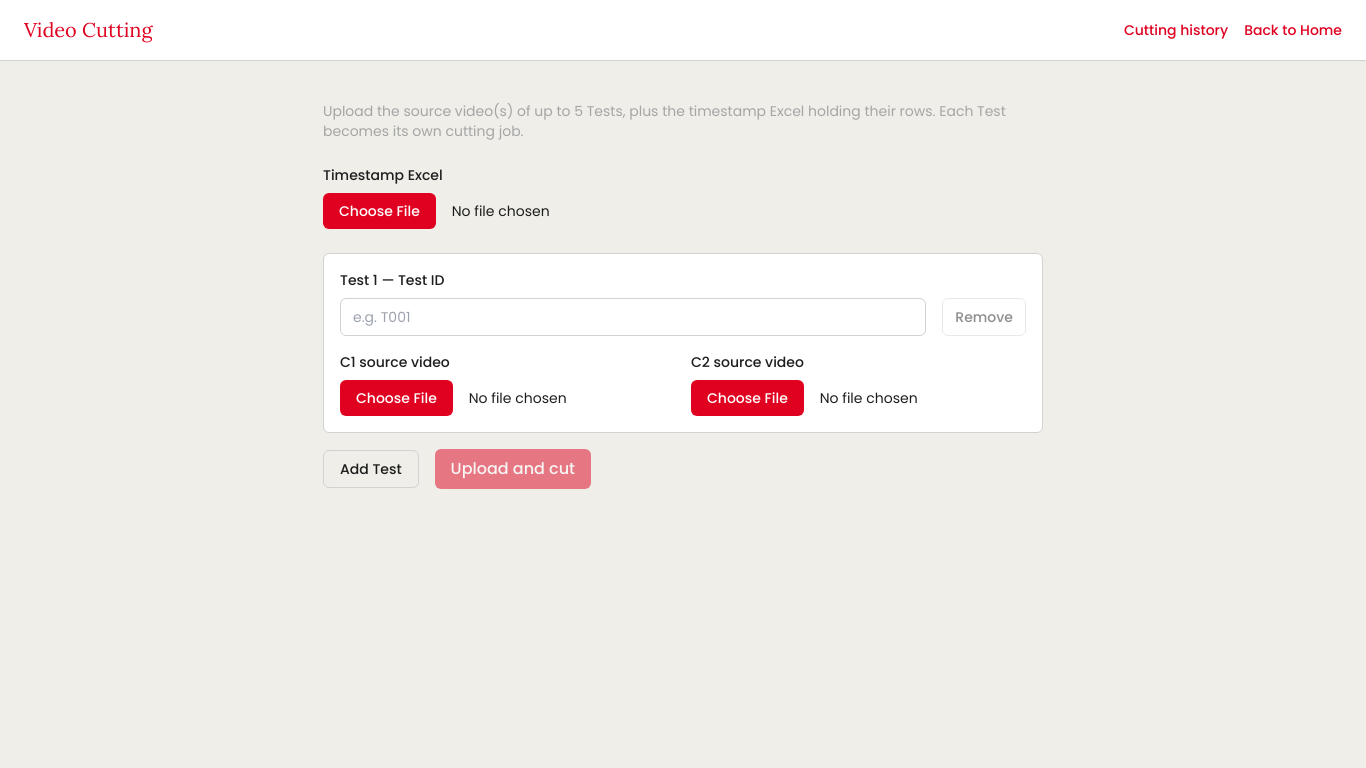
CuttingUploadView › removes a Test from the batch
The width and height of the screenshot is (1366, 768).
Click the button with test id "add-test" at [371, 469], box [323, 450, 419, 488]
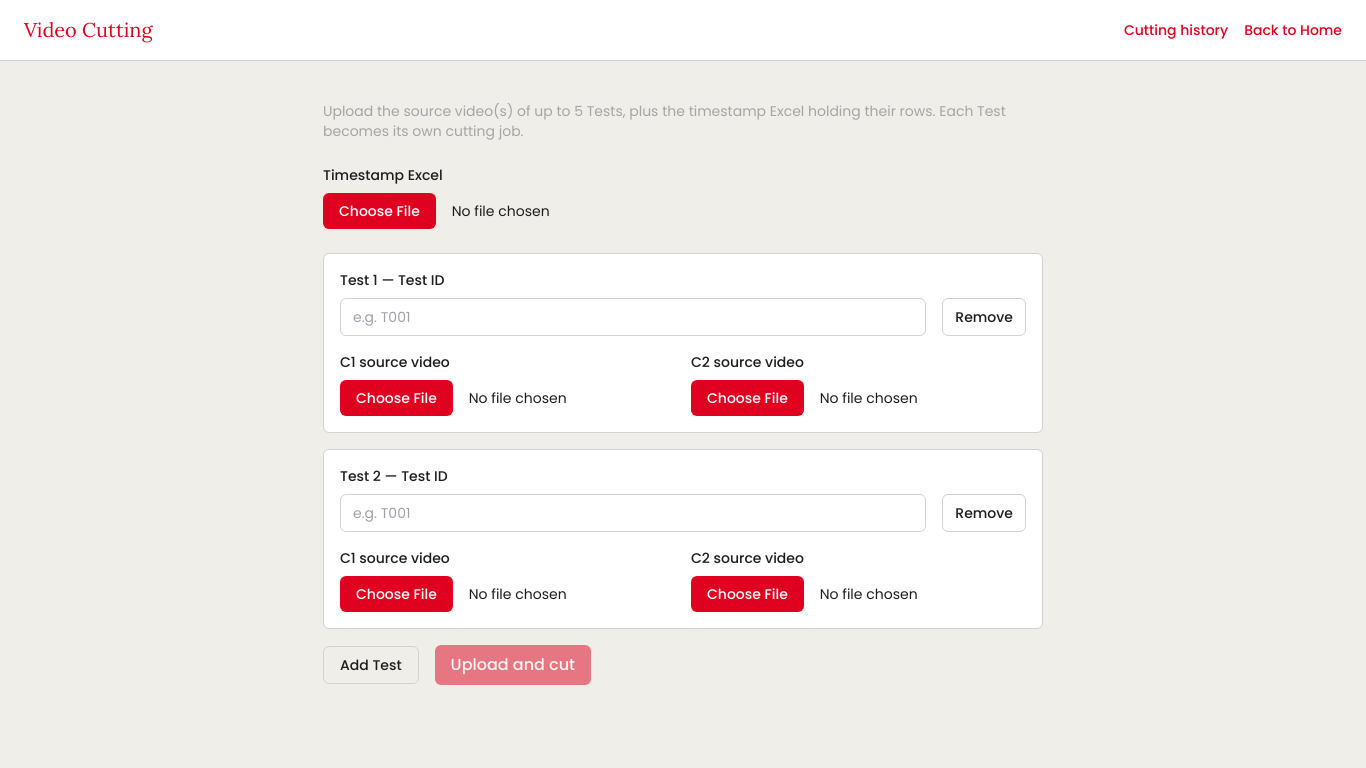
Type "T002" into the field with test id "test-id-input" at [633, 513], box [340, 494, 926, 532]
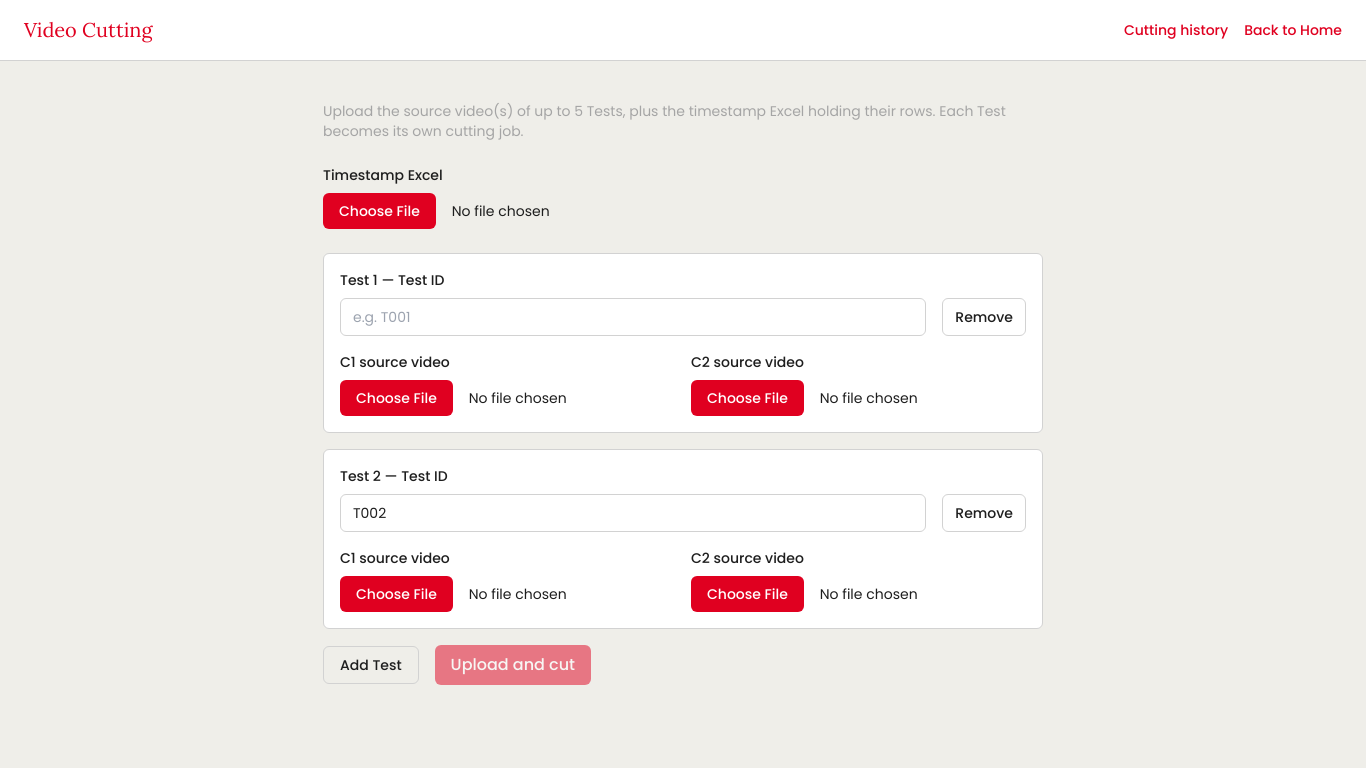
Click the 1st button with test id "remove-test" at [984, 317], box [942, 298, 1026, 336]
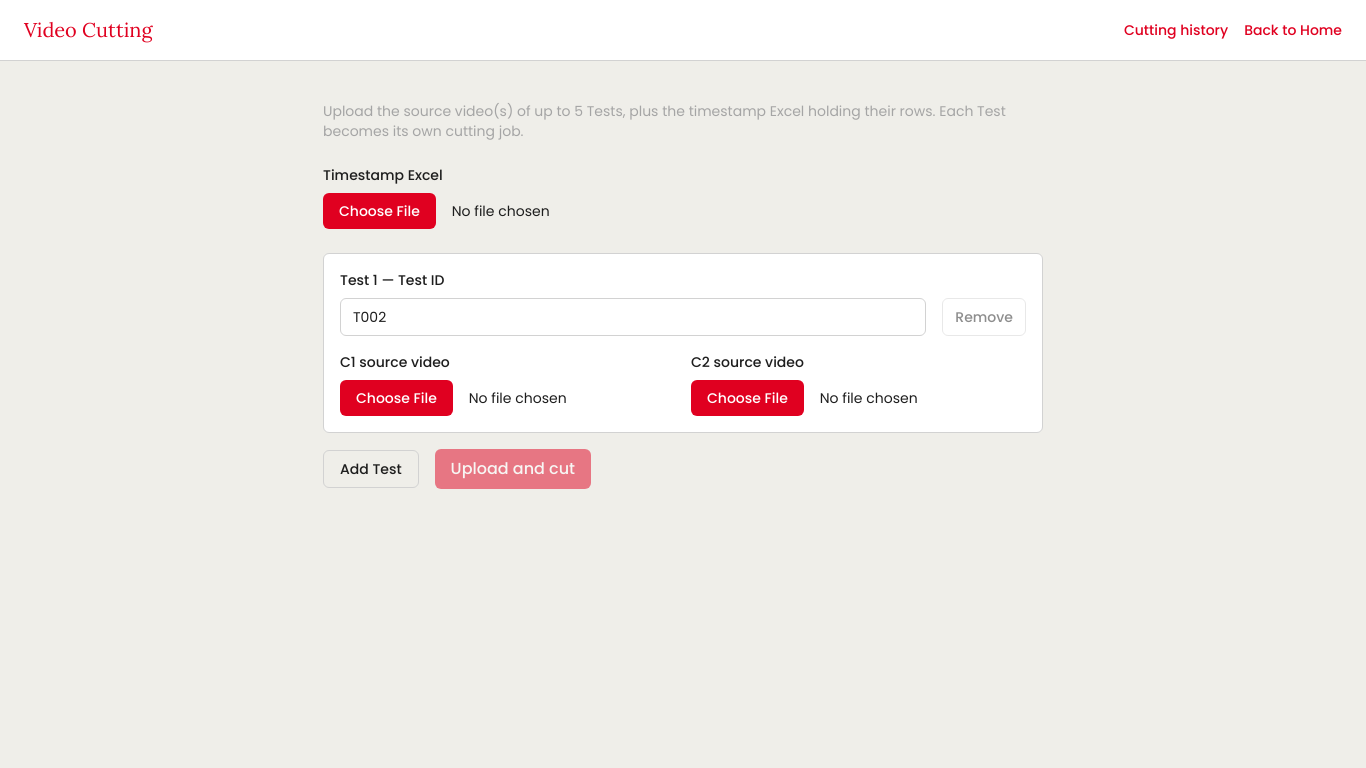
Check: the number of list items with test id "test-entry" is 1, box [323, 253, 1043, 433]
